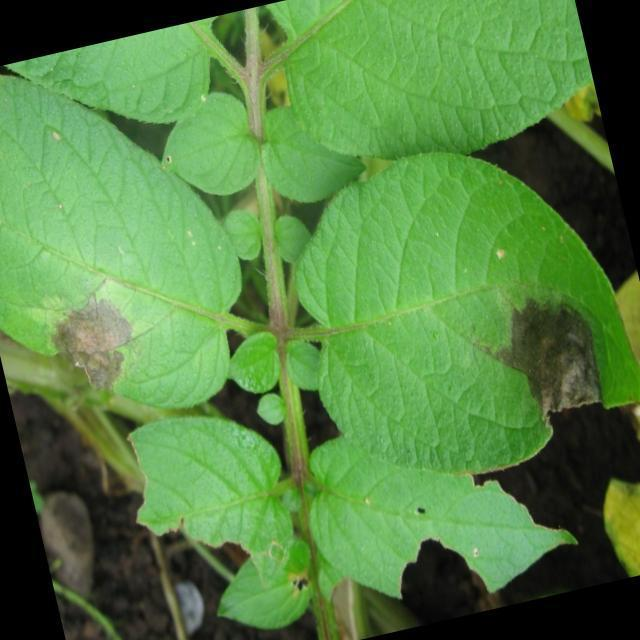Healthy Leaf: (149, 90, 267, 206), (220, 329, 288, 396)
